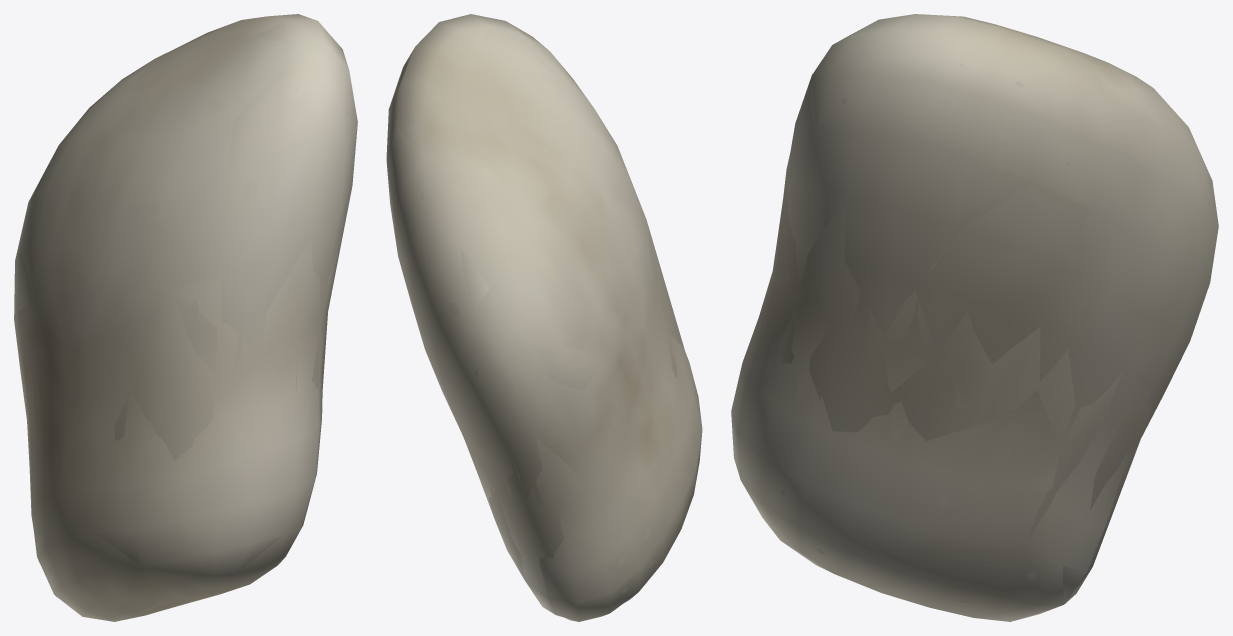
The model's file is L tarsale quartum.fbx.
3 renders of one model, left to right at view 1: azimuth 30°, elevation 25°; view 2: azimuth 150°, elevation 25°; view 3: azimuth 270°, elevation 25°, orthographic. The views are drawn at different scales.
Parts seen in each view (by area): view 1: L tarsale quartum, L tarsale quartum low, L tarsale quartum high; view 2: L tarsale quartum, L tarsale quartum low, L tarsale quartum high; view 3: L tarsale quartum, L tarsale quartum low, L tarsale quartum high.
Part boxes in pixels (x1=…): L tarsale quartum: x1=14, y1=14, x2=357, y2=621; L tarsale quartum low: x1=15, y1=22, x2=351, y2=612; L tarsale quartum high: x1=17, y1=27, x2=348, y2=610; L tarsale quartum: x1=386, y1=14, x2=702, y2=621; L tarsale quartum low: x1=389, y1=16, x2=702, y2=620; L tarsale quartum high: x1=401, y1=35, x2=694, y2=602; L tarsale quartum: x1=731, y1=14, x2=1218, y2=621; L tarsale quartum low: x1=732, y1=14, x2=1217, y2=618; L tarsale quartum high: x1=735, y1=21, x2=1211, y2=603.
Bounding box in the file's own units: 0.4188 × 0.8141 × 0.5234.
1 material, 1 textured.
